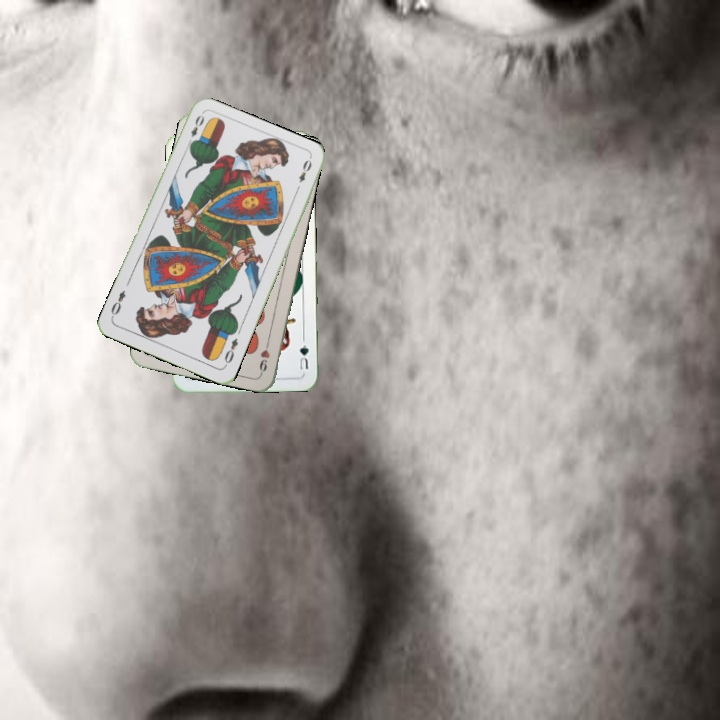EO: (183, 110, 207, 149), (220, 334, 241, 369)
GU: (295, 341, 311, 374)
H9: (255, 336, 272, 376)
